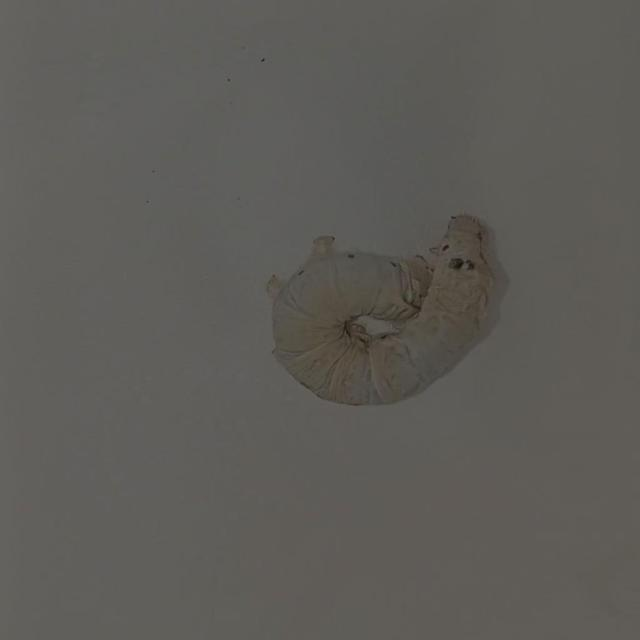Healthy: (249, 184, 536, 429)
